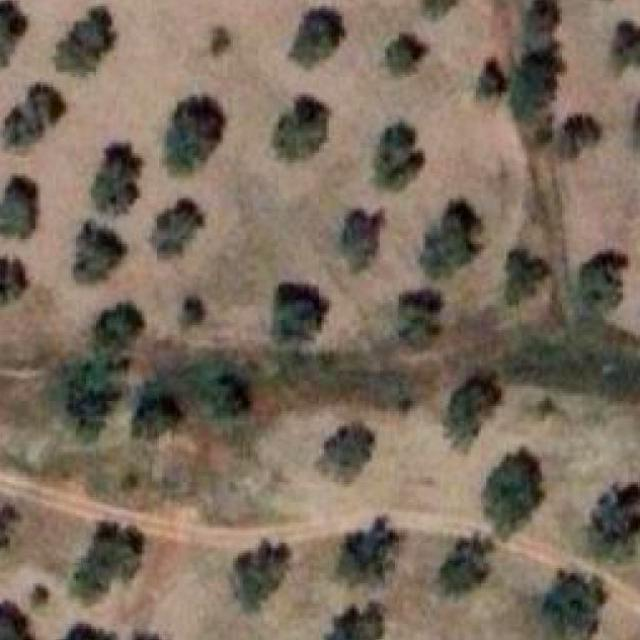Tree: (418, 198, 488, 280), (156, 92, 223, 177), (502, 46, 564, 136), (42, 0, 112, 78), (481, 447, 544, 532), (434, 374, 502, 451), (71, 520, 142, 592), (581, 477, 640, 558), (0, 82, 61, 156), (536, 568, 602, 636), (227, 540, 294, 606), (310, 419, 375, 483), (270, 97, 334, 160), (336, 518, 397, 584), (91, 137, 144, 210), (290, 6, 347, 68), (69, 370, 121, 434), (578, 249, 630, 312), (266, 285, 326, 338), (337, 206, 385, 272), (374, 122, 425, 184), (390, 292, 445, 349), (439, 536, 491, 595), (94, 299, 144, 354), (156, 191, 205, 247), (545, 112, 602, 160), (140, 386, 187, 442), (502, 247, 550, 301), (70, 227, 121, 277), (0, 173, 36, 237), (601, 19, 640, 75), (0, 0, 31, 67), (331, 605, 388, 640), (206, 373, 248, 418), (385, 32, 427, 77), (167, 292, 205, 338), (470, 57, 506, 103), (521, 0, 566, 36), (0, 254, 31, 304), (0, 601, 38, 640), (0, 500, 26, 550), (202, 24, 236, 61), (420, 0, 461, 27), (59, 624, 116, 640), (129, 629, 169, 640), (30, 580, 48, 601)
